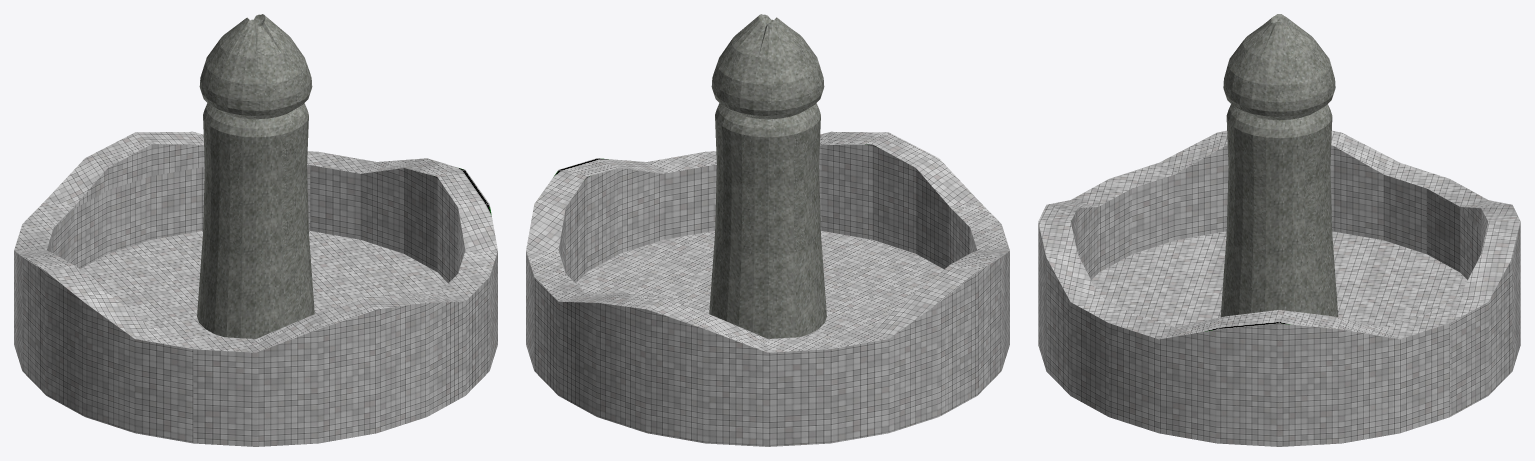
Rendered from Dick Fountain.FBX.
The picture shows the model from 3 angles, left to right: view 1: azimuth 30°, elevation 25°; view 2: azimuth 150°, elevation 25°; view 3: azimuth 270°, elevation 25°; orthographic projection.
Parts seen in each view (by area): view 1: Cylinder001; view 2: Cylinder001; view 3: Cylinder001.
Boxes of the visible parts, box(x1,y1,x2,y2) form: Cylinder001: box(14, 14, 497, 446); Cylinder001: box(526, 14, 1009, 446); Cylinder001: box(1038, 14, 1520, 446).
Bounding box in the file's own units: 150 × 113 × 150.
